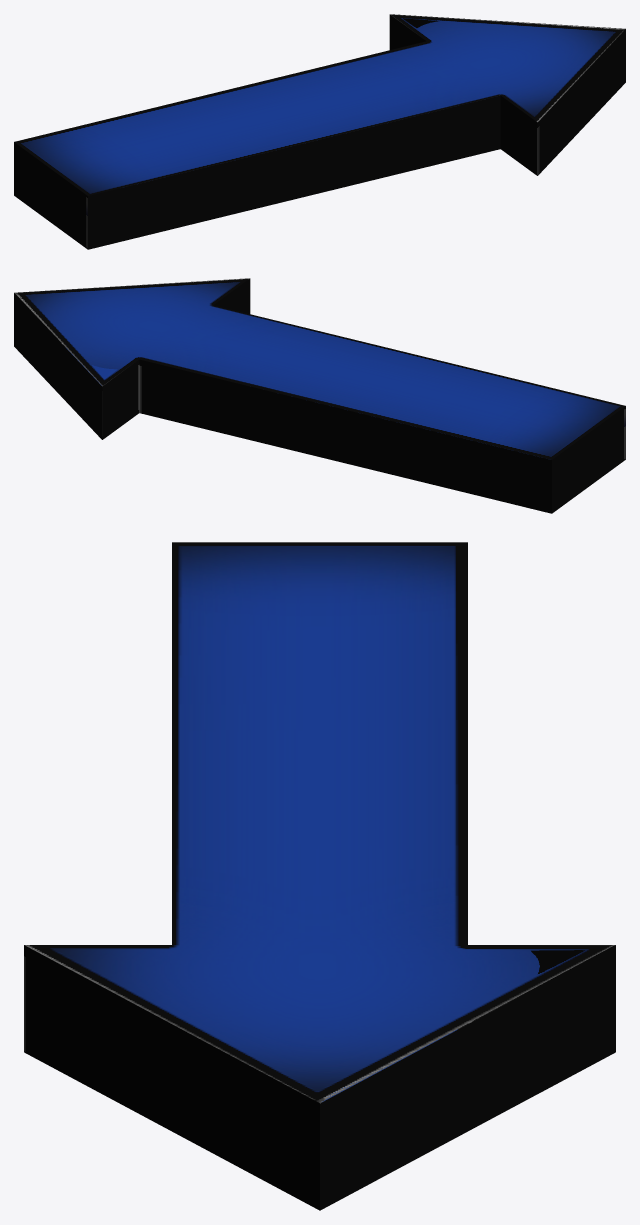
The model's file is arrow.obj.
The picture shows the model from 3 angles, top to bottom: view 1: azimuth 30°, elevation 25°; view 2: azimuth 150°, elevation 25°; view 3: azimuth 270°, elevation 25°; orthographic projection. The views are drawn at different scales.
Visible parts, largest first — view 1: Cube; view 2: Cube; view 3: Cube.
Part boxes in pixels (x1,y1,x2,y2): Cube: (14,14,625,249); Cube: (14,278,625,513); Cube: (24,542,615,1210).
Bounding box in the file's own units: 2.24 × 0.2 × 1.
Materials: 1 (1 with a texture image).
